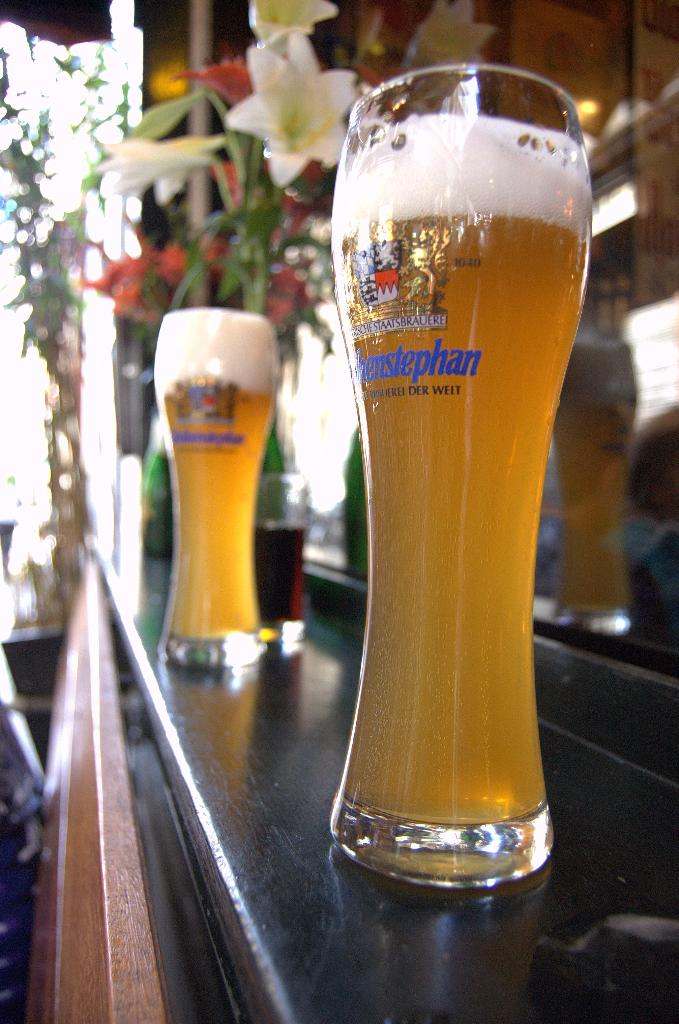Beer: (329, 64, 591, 884), (147, 310, 275, 636)
